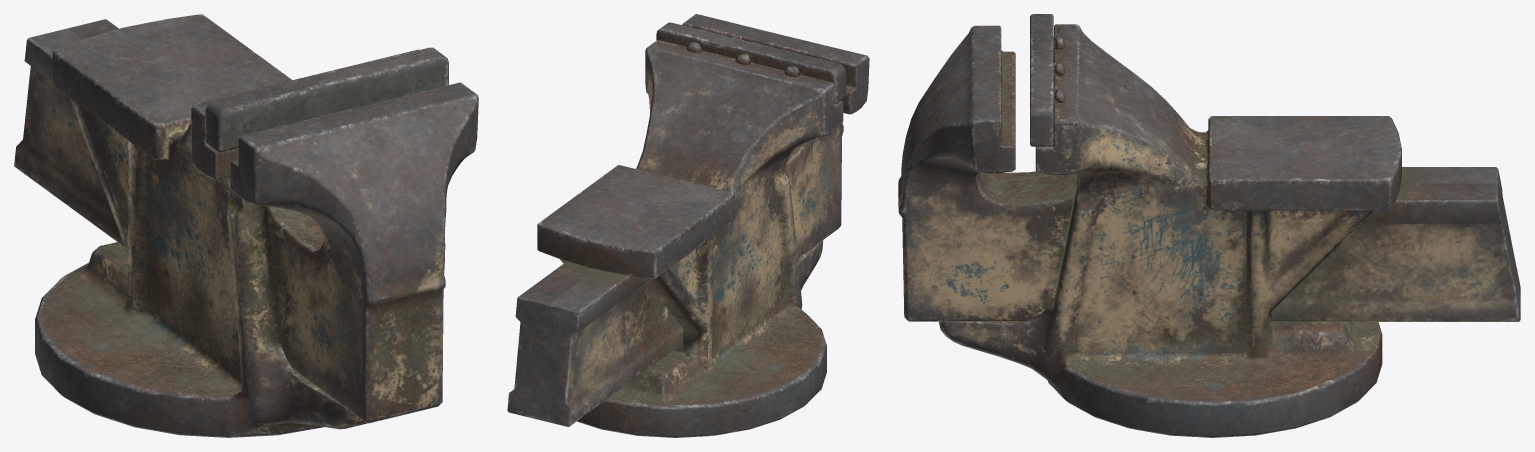
Rendered from collector_clamp.gltf.
3 renders of one model, left to right at view 1: azimuth 30°, elevation 25°; view 2: azimuth 150°, elevation 25°; view 3: azimuth 270°, elevation 25°, orthographic. The views are drawn at different scales.
Parts seen in each view (by area): view 1: ClampCastBody, ClampFixedJaw; view 2: ClampCastBody, ClampFixedJaw; view 3: ClampCastBody, ClampFixedJaw.
Part boxes in pixels (x1,y1,x2,y2): ClampCastBody: (35,14,448,437); ClampFixedJaw: (14,19,478,423); ClampCastBody: (537,22,845,437); ClampFixedJaw: (507,14,869,426); ClampCastBody: (939,14,1401,437); ClampFixedJaw: (898,25,1520,321).
Size of the model in its own units: 0.2005 by 0.1995 by 0.3665.
1 material, 1 textured.
